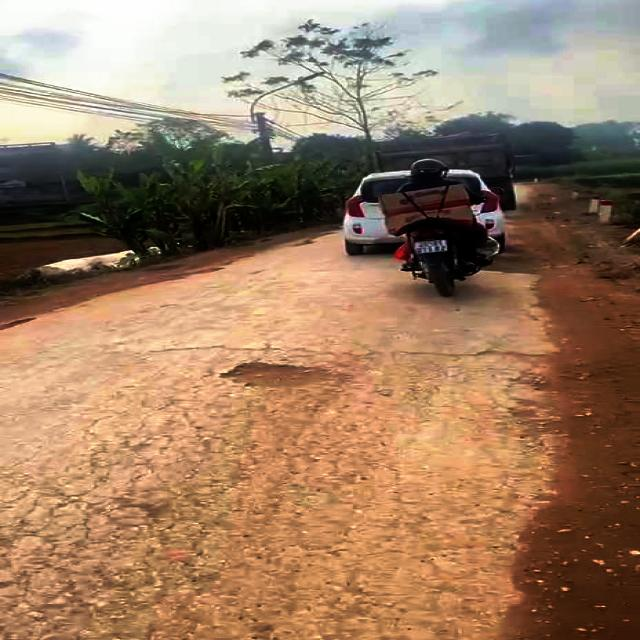pothole: (218, 357, 343, 396)
